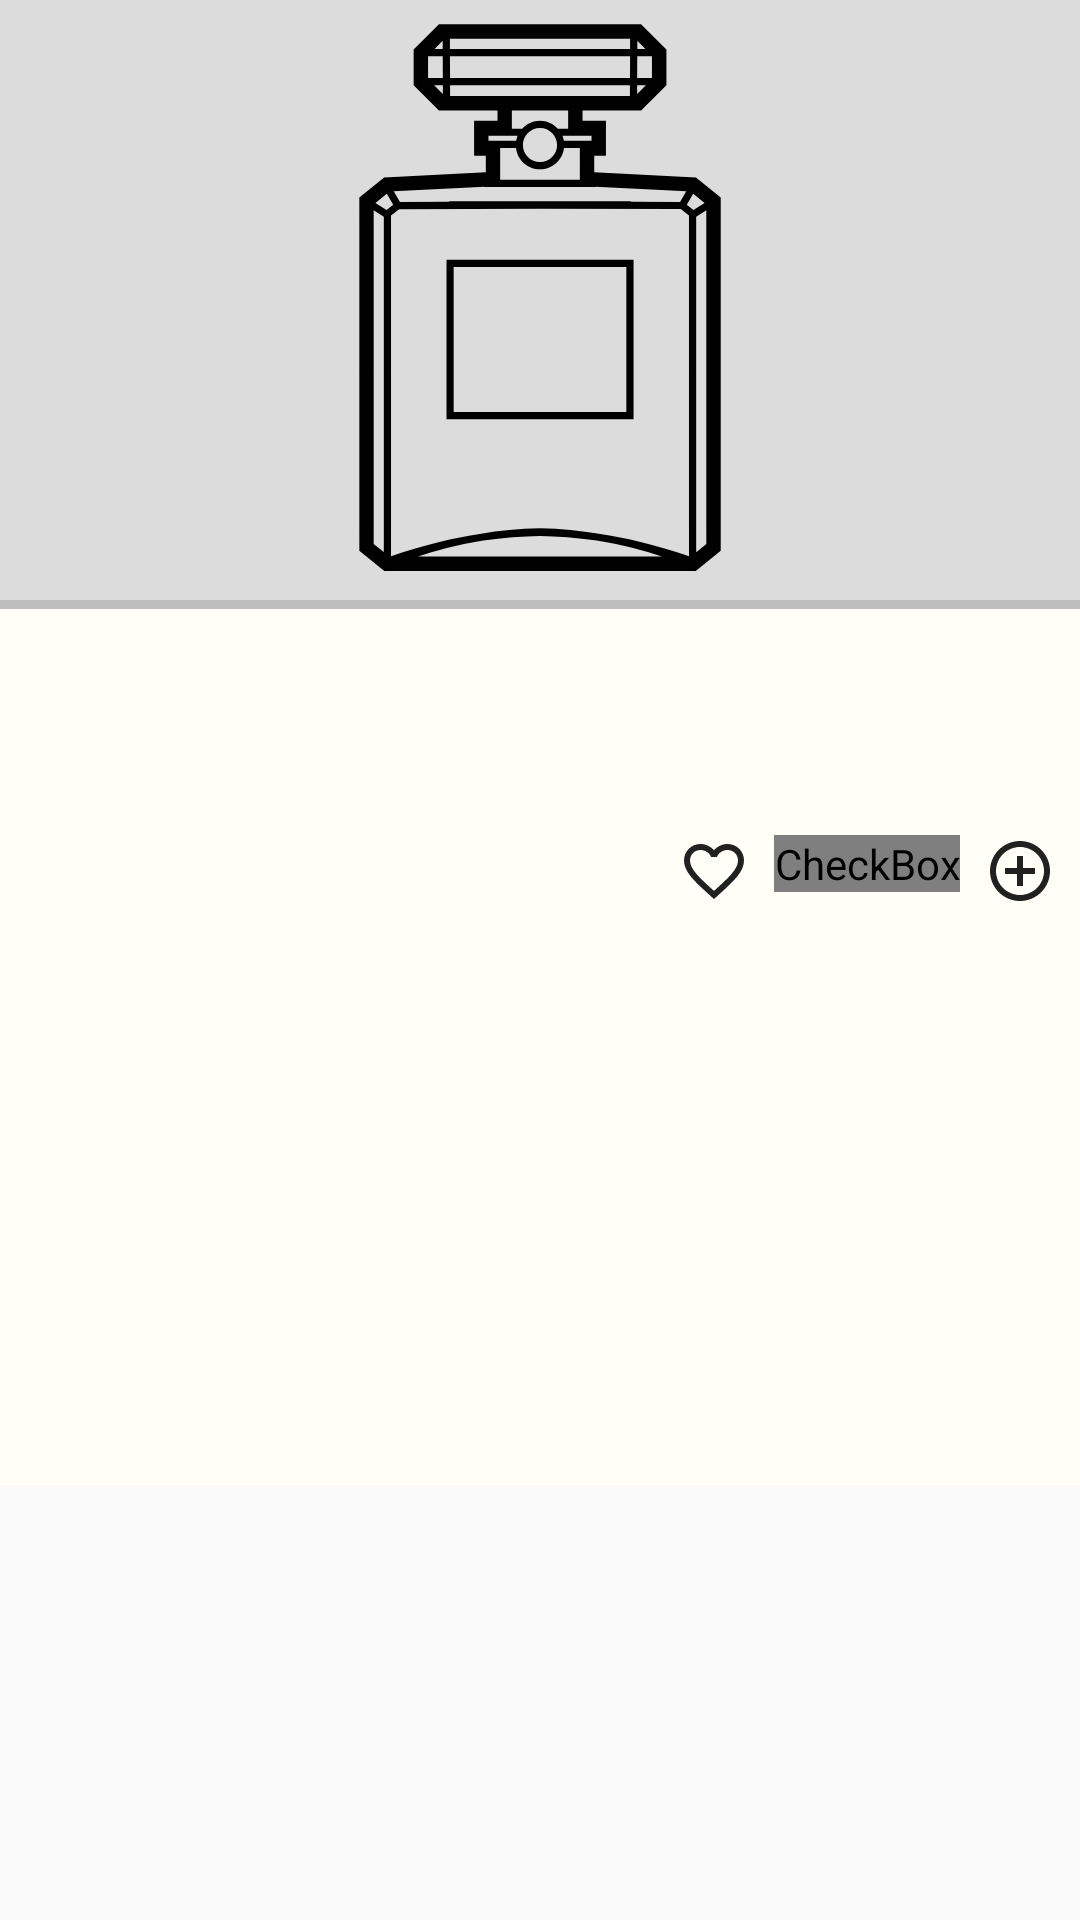

Icons on this 1080×1920 Android screen, each with the point to tap as (x=x, y=y):
favorite: (x=714, y=871)
